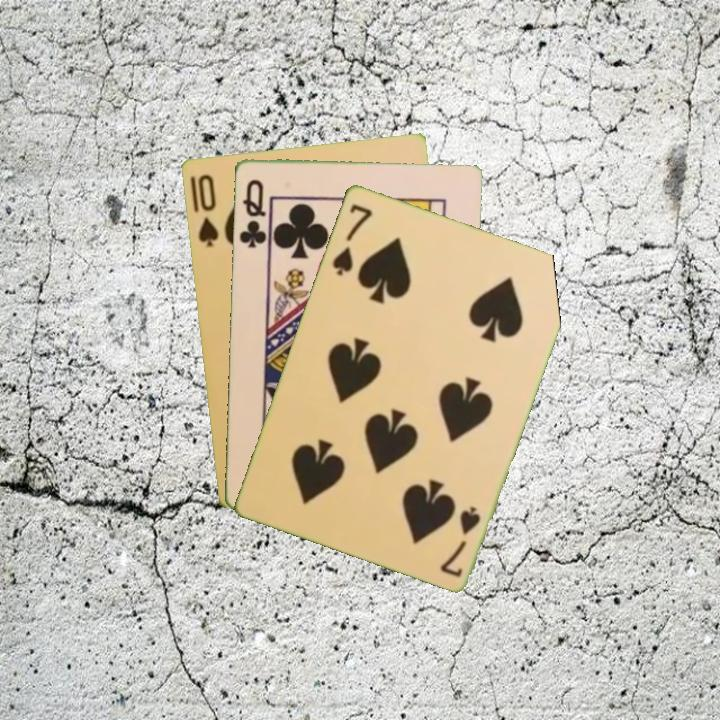10s: (194, 170, 221, 249)
7s: (328, 200, 375, 278), (436, 502, 483, 580)
Qc: (235, 175, 269, 251)
